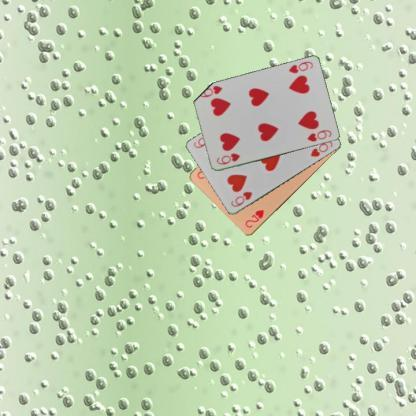2h: (242, 207, 266, 230)
6h: (229, 189, 254, 209), (286, 59, 314, 75), (214, 151, 242, 166)
